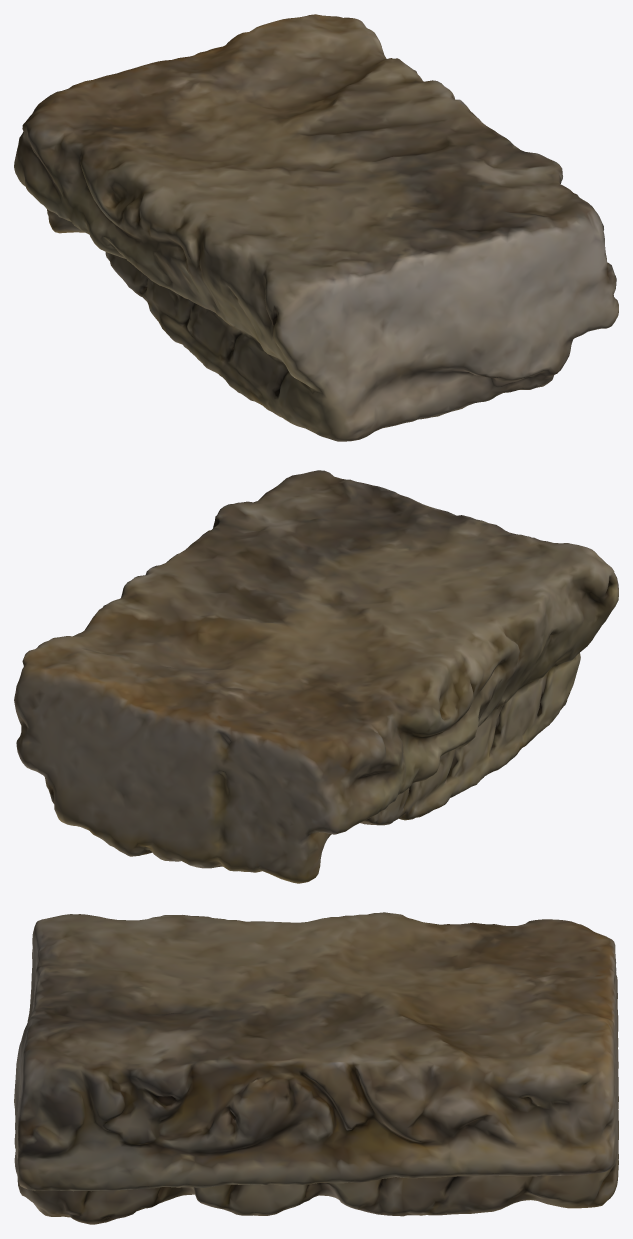
The model's file is Pilastre_QuadricEdgeDecimationX3+preserve+laplacianSmooth.obj.
3 renders of one model, top to bottom at view 1: azimuth 30°, elevation 25°; view 2: azimuth 150°, elevation 25°; view 3: azimuth 270°, elevation 25°, orthographic. The views are drawn at different scales.
Bounding box in the file's own units: 7.21 × 3.7 × 10.36.
